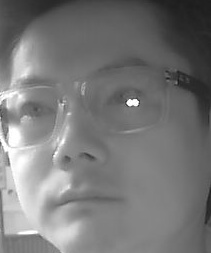eye: (105, 83, 142, 108), (17, 99, 55, 121)
glass: (77, 65, 169, 132), (1, 81, 61, 149)
mouth: (52, 183, 120, 218)
